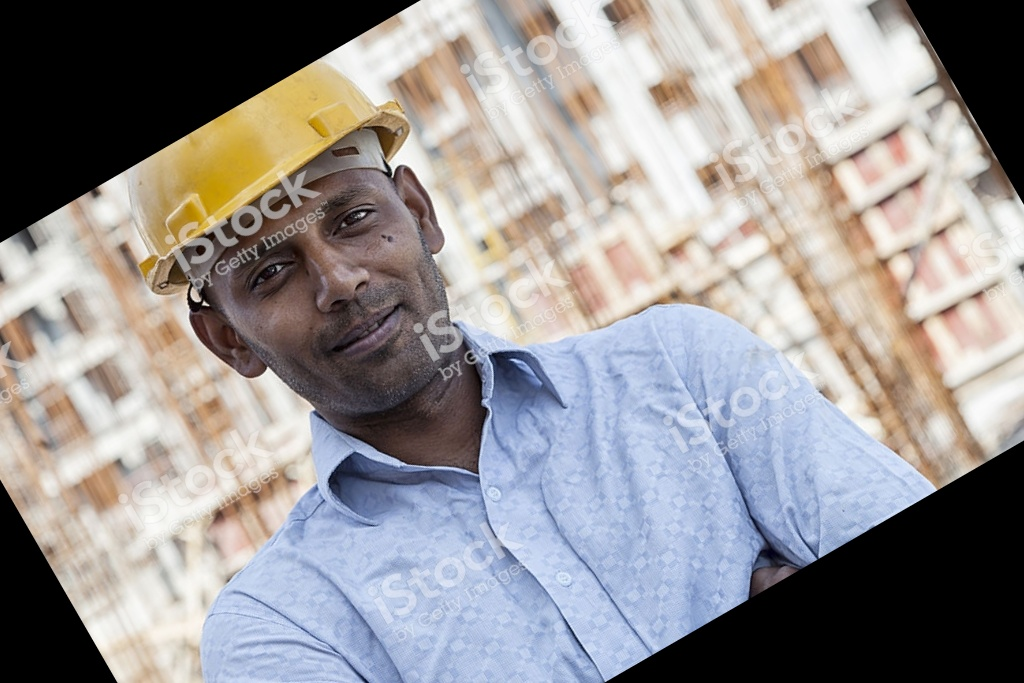NoJacket: (160, 85, 686, 683)
